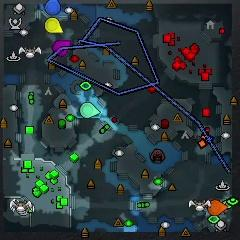p1: (44, 0, 60, 18)
p2: (79, 103, 101, 118)
p3: (52, 41, 71, 57)
p4: (44, 18, 65, 34)
p5: (205, 200, 228, 216)
